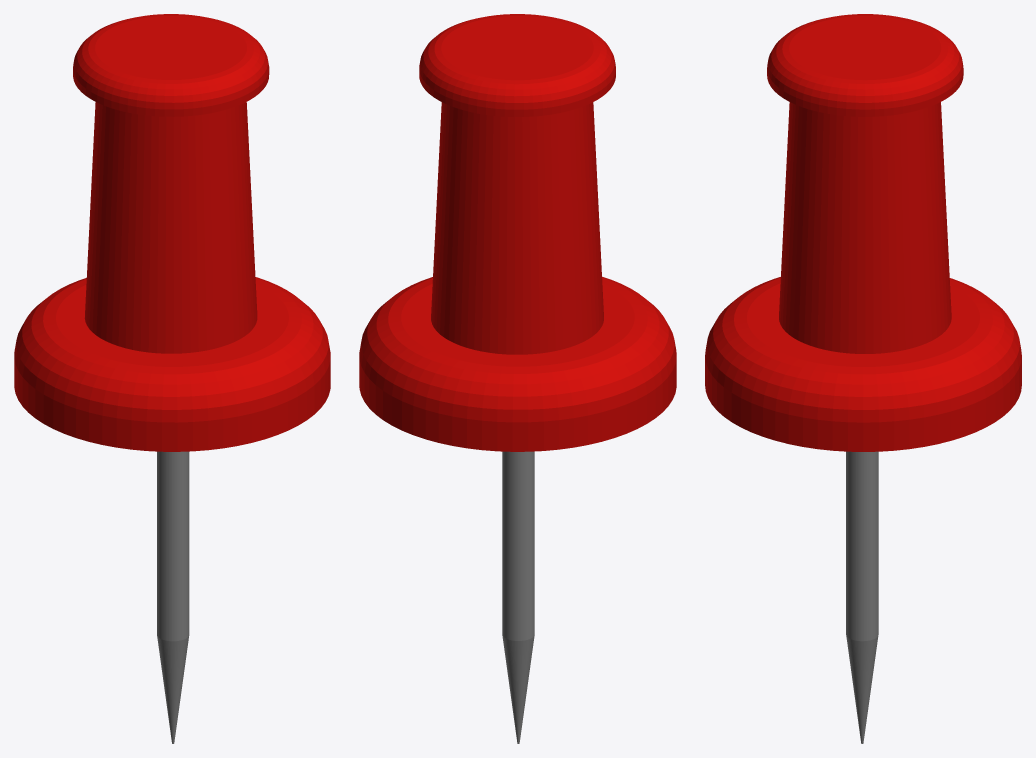
The model's file is Pin red.fbx.
3 views of the same model, side by side, from view 1: azimuth 30°, elevation 25°; view 2: azimuth 150°, elevation 25°; view 3: azimuth 270°, elevation 25° (orthographic).
Visible parts, largest first — view 1: pin, needle; view 2: pin, needle; view 3: pin, needle.
Part boxes in pixels (box(x1,y1,x2,y2)): pin: box(14, 14, 330, 451); needle: box(157, 451, 189, 743); pin: box(359, 14, 676, 451); needle: box(502, 451, 534, 743); pin: box(705, 14, 1021, 451); needle: box(846, 451, 878, 743).
Bounding box in the file's own units: 87.5 × 212 × 87.5.
